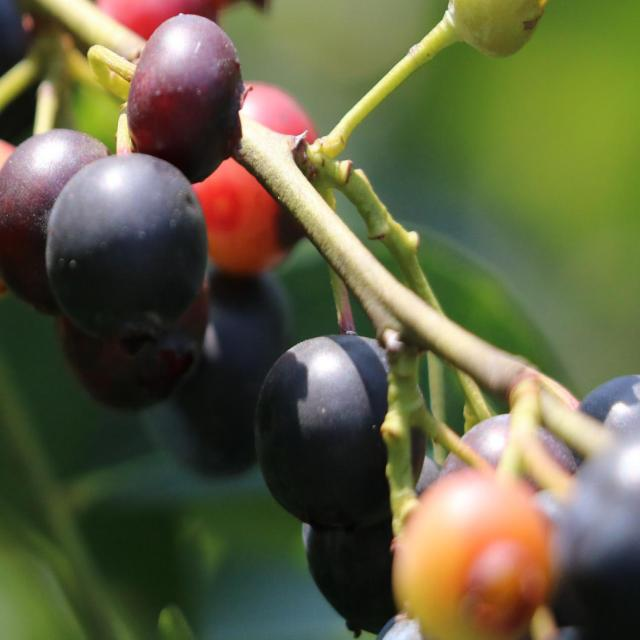blueberry: (252, 326, 424, 522), (47, 156, 203, 339), (124, 11, 246, 181), (2, 129, 112, 308)
blueberry-halfripe: (390, 474, 552, 639), (194, 84, 323, 276)
